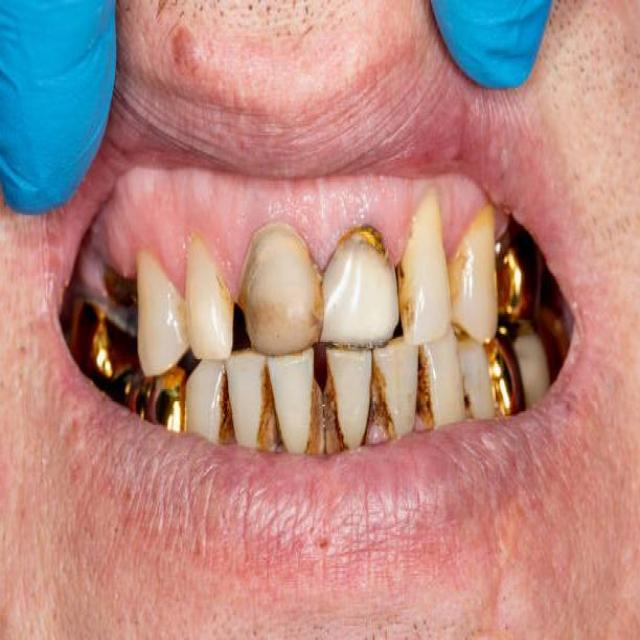caries: (340, 211, 390, 264), (457, 376, 487, 430)
